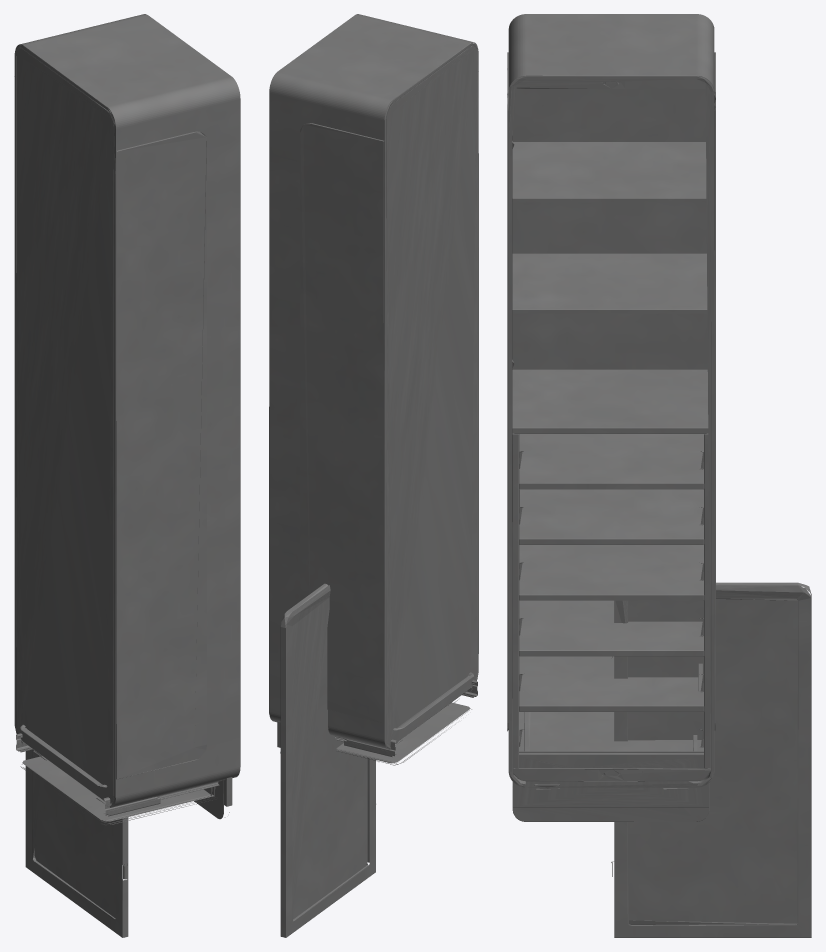
Rendered from cabinet_file_b01.glb.
3 renders of one model, left to right at view 1: azimuth 30°, elevation 25°; view 2: azimuth 150°, elevation 25°; view 3: azimuth 270°, elevation 25°, orthographic. The views are drawn at different scales.
Visible parts, largest first — view 1: geometry_0; view 2: geometry_0; view 3: geometry_0.
Part boxes in pixels (x1,y1,x2,y2): geometry_0: [14, 14, 240, 937]; geometry_0: [269, 14, 478, 937]; geometry_0: [507, 14, 811, 937].
Size of the model in its own units: 0.0664 by 0.42 by 0.13.
1 material, 1 textured.
